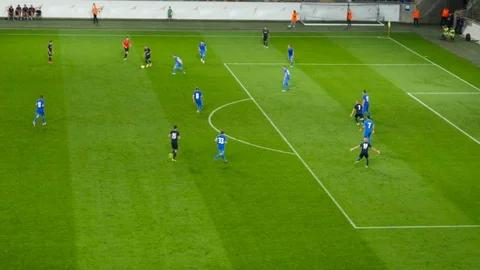ballon_football: (139, 64, 145, 70)
